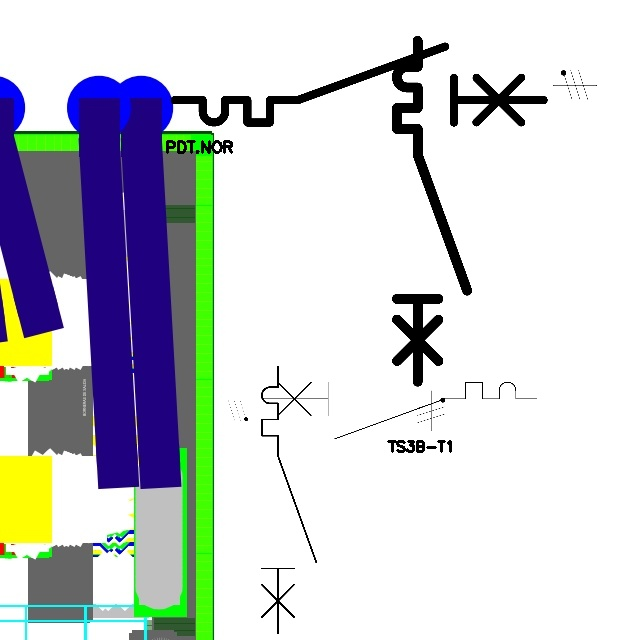interruptor_termomagnetico: (165, 37, 553, 132), (388, 32, 475, 390), (253, 375, 543, 446), (255, 360, 323, 640)
